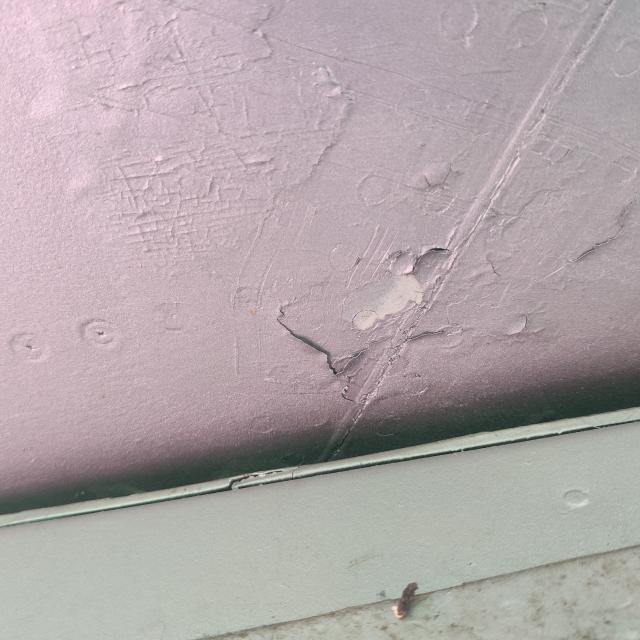paint-off: (269, 236, 464, 386)
